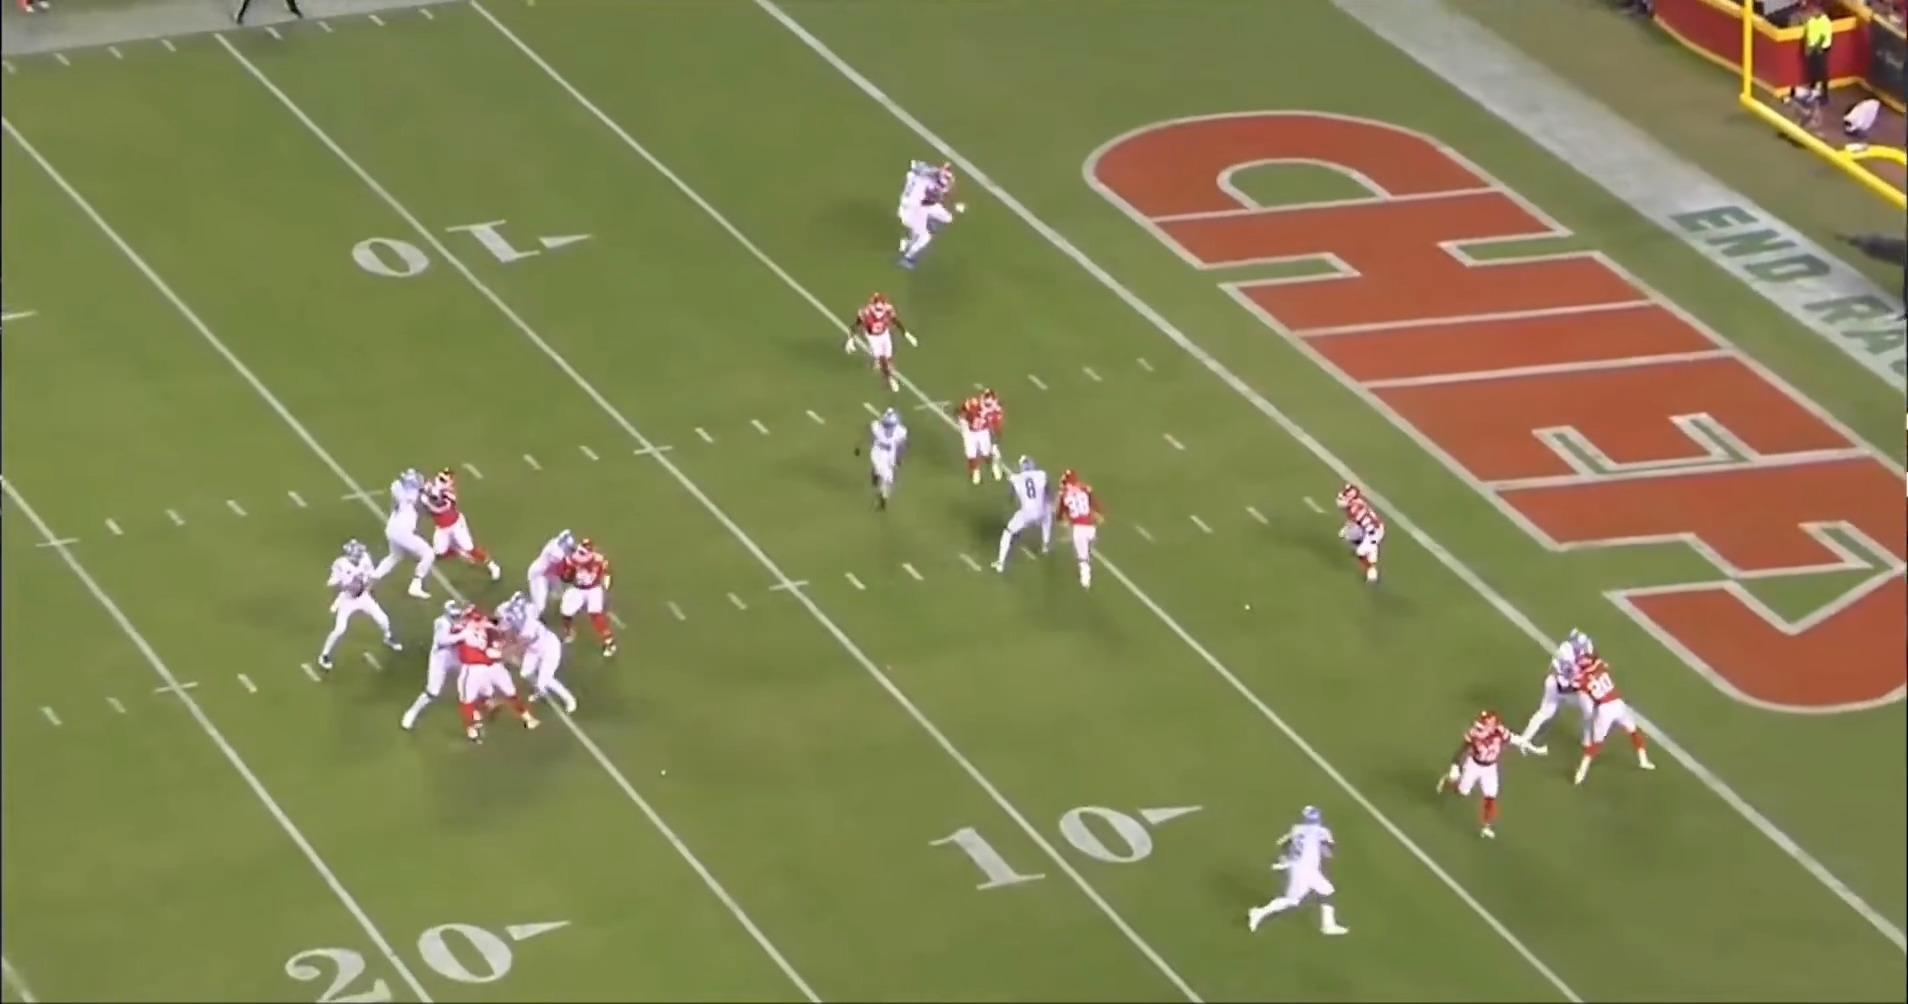player: (1245, 806, 1349, 943), (1432, 705, 1535, 843), (311, 532, 410, 670), (1565, 660, 1647, 793), (416, 463, 504, 581), (395, 603, 467, 736), (1523, 634, 1602, 754), (379, 460, 444, 599), (455, 608, 517, 748), (985, 451, 1056, 573), (838, 293, 914, 399), (507, 603, 578, 713), (1059, 470, 1117, 594), (563, 538, 620, 659), (852, 411, 911, 520), (951, 385, 1007, 491), (1328, 486, 1384, 591), (892, 158, 938, 272), (531, 524, 584, 600), (928, 156, 971, 236), (493, 588, 541, 622), (1558, 630, 1604, 663)
ref: (226, 3, 306, 31)
